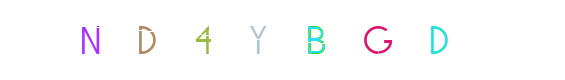4: (213, 0, 293, 80)
B: (274, 0, 354, 80)
D: (135, 0, 215, 80), (344, 0, 424, 80)
G: (336, 0, 416, 80)
N: (49, 0, 129, 80)
Y: (243, 0, 323, 80)
